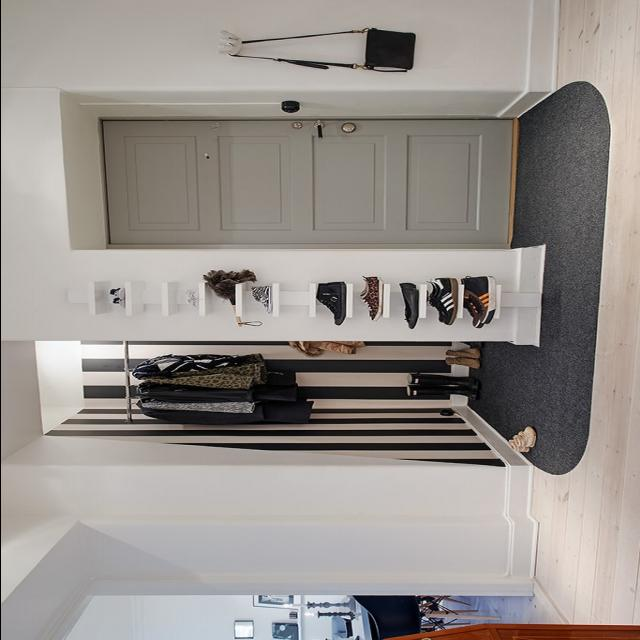close: (107, 121, 519, 249)
